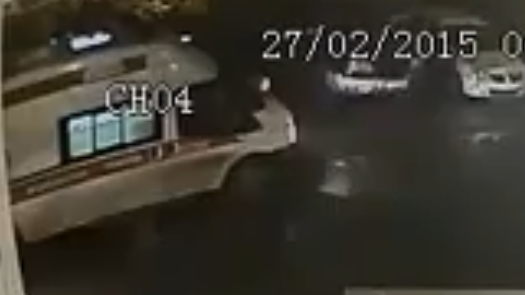ambulance: (0, 43, 298, 246)
